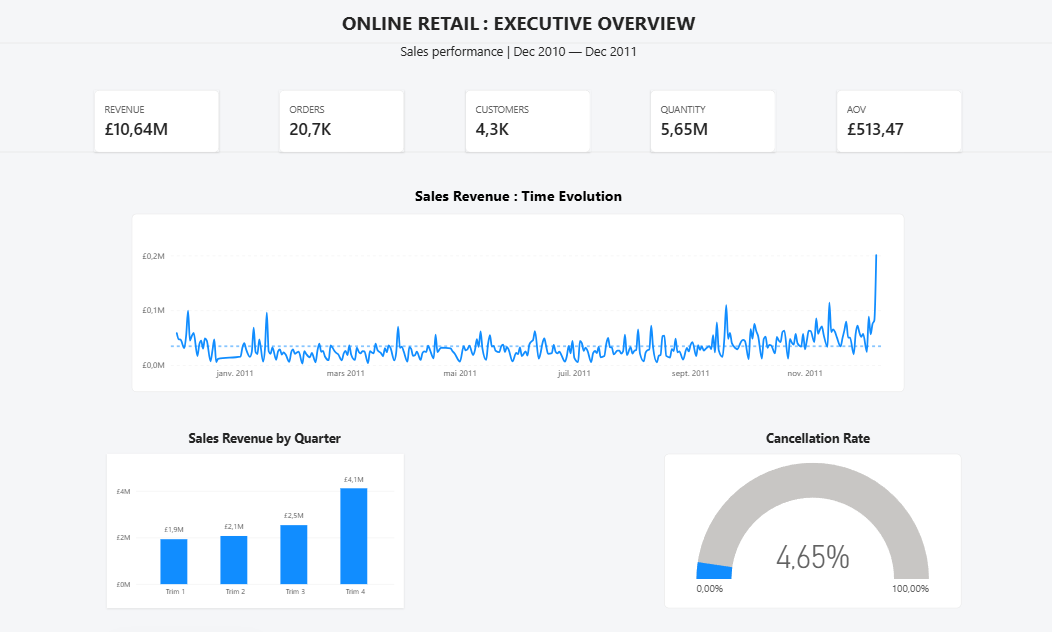

The dashboard page shown, as its layout file describes it:
{"tool":"powerbi","page":{"name":"Executive Overview","canvas":[1920,1080],"ordinal":0},"visuals":[{"type":"lineChart","fields":{"Category":["Table.InvoiceDate.Variation.Hiérarchie de dates.Année","Table.InvoiceDate.Variation.Hiérarchie de dates.Mois","Table.InvoiceDate.Variation.Hiérarchie de dates.Jour"],"Y":["Table.Revenue Sales"]},"box":[310,359.6,1300,300],"z":0},{"type":"lineStackedColumnComboChart","fields":{"Category":["Table.InvoiceDate.Variation.Hiérarchie de dates.Année","Table.InvoiceDate.Variation.Hiérarchie de dates.Trimestre","Table.InvoiceDate.Variation.Hiérarchie de dates.Mois","Table.InvoiceDate.Variation.Hiérarchie de dates.Jour"],"Y":["Table.Revenue Sales"]},"box":[267.4,763.9,500,260],"z":1000},{"type":"textbox","box":[0,16.8,1920.4,166.2],"z":2000},{"type":"textbox","box":[0,71.5,1920.4,185.1],"z":3000},{"type":"cardVisual","title":"Revenue","fields":{"Data":["Table.Total Customers"]},"box":[870.3,152.3,210,105],"z":4000},{"type":"cardVisual","title":"Revenue","fields":{"Data":["Table.Revenue Sales"]},"box":[245.3,152.3,210,105],"z":5000},{"type":"cardVisual","title":"Revenue","fields":{"Data":["Table.Average Order Value"]},"box":[1495.3,152.3,210,105],"z":6000},{"type":"cardVisual","title":"Revenue","fields":{"Data":["Table.Total Orders"]},"box":[557.8,152.3,210,105],"z":7000},{"type":"cardVisual","title":"Revenue","fields":{"Data":["Table.Total Quantity"]},"box":[1182.8,152.3,210,105],"z":8000},{"type":"textbox","box":[0,313,1920.4,46.5],"z":9000},{"type":"textbox","box":[0,721.5,1065.3,42.4],"z":10000},{"type":"gauge","fields":{"Y":["Table.Cancellation Rate"]},"box":[1205.3,763.9,500,260],"z":11000},{"type":"textbox","box":[1114.1,721.5,698.1,42.4],"z":12000}]}

Visuals, with their boxes on the page's 1920x1080 design canvas (x1, y1, x2, y2). These are canvas units, not pixel positions in the 1052x632 screenshot, which may show the page scaled, cropped or inside an application window:
lineChart - Table.InvoiceDate.Variation.Hiérarchie de dates.Année x Table.InvoiceDate.Variation.Hiérarchie de dates.Mois: [310,360,1610,660]
lineStackedColumnComboChart - Table.InvoiceDate.Variation.Hiérarchie de dates.Année x Table.InvoiceDate.Variation.Hiérarchie de dates.Trimestre: [267,764,767,1024]
textbox: [0,17,1920,183]
textbox: [0,72,1920,257]
"Revenue" cardVisual: [870,152,1080,257]
"Revenue" cardVisual: [245,152,455,257]
"Revenue" cardVisual: [1495,152,1705,257]
"Revenue" cardVisual: [558,152,768,257]
"Revenue" cardVisual: [1183,152,1393,257]
textbox: [0,313,1920,360]
textbox: [0,722,1065,764]
gauge - Table.Cancellation Rate: [1205,764,1705,1024]
textbox: [1114,722,1812,764]
